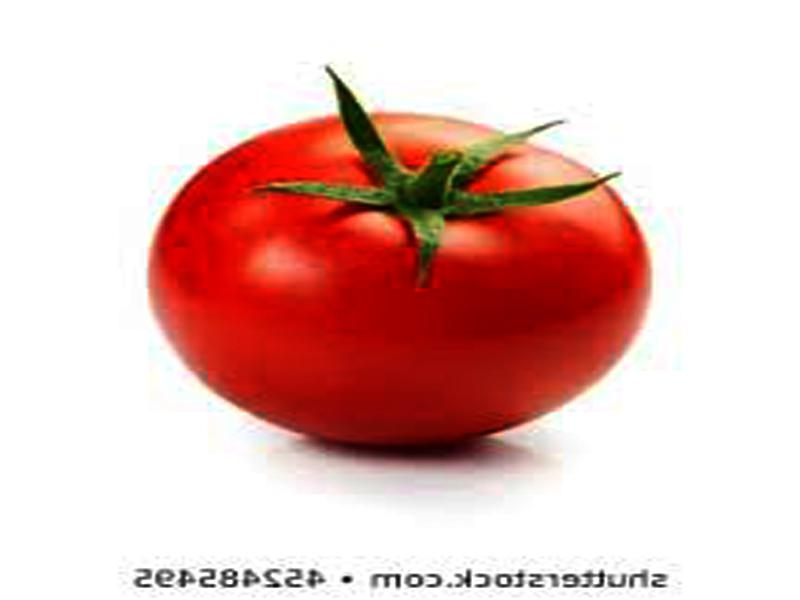Tomato: (155, 113, 643, 448)
